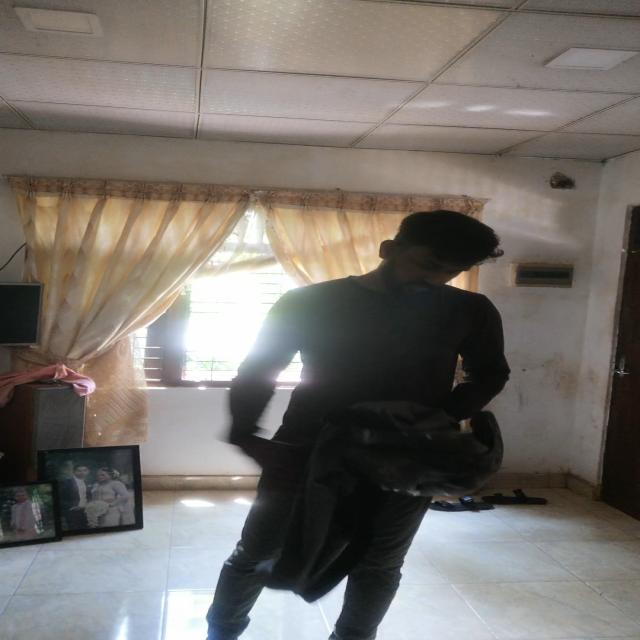Person: (220, 196, 521, 640)
